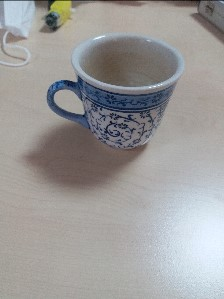cup: (46, 32, 187, 158)
